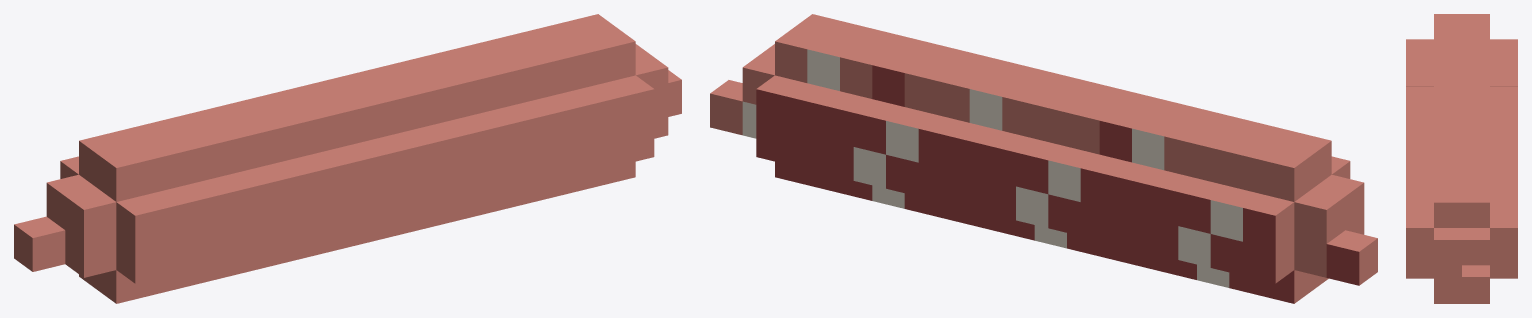
The model's file is Chorizo_Sausage.obj.
The picture shows the model from 3 angles, left to right: view 1: azimuth 30°, elevation 25°; view 2: azimuth 150°, elevation 25°; view 3: azimuth 270°, elevation 25°; orthographic projection. The views are drawn at different scales.
Parts seen in each view (by area): view 1: body_2_3_2, cap_1_2_2, body_2_2_3, knot_0, body_2_1_3, cap_1_1_2, body_12_2_3, body_7_3_2, body_5_3_2, body_3_2_3, body_4_2_3, body_5_2_3 (+75 smaller); view 2: body_2_3_1, cap_1_2_1, body_2_2_0, knot_0, body_2_1_0, body_7_2_0, body_11_3_1, body_13_3_1, body_5_2_0, body_3_3_1, body_7_3_1, body_13_2_0 (+75 smaller); view 3: body_17_2_0, body_17_2_3, cap_18_2_1, cap_18_2_2, knot_19, body_17_3_1, body_17_3_2, body_17_1_0, body_17_1_3, cap_18_1_2, body_17_0_2, body_3_3_1 (+59 smaller).
Part boxes in pixels (x1=…): body_2_3_2: x1=97, y1=146, x2=148, y2=201; cap_1_2_2: x1=65, y1=188, x2=116, y2=243; body_2_2_3: x1=116, y1=194, x2=167, y2=249; knot_0: x1=14, y1=216, x2=65, y2=271; body_2_1_3: x1=116, y1=236, x2=167, y2=283; cap_1_1_2: x1=65, y1=230, x2=116, y2=277; body_12_2_3: x1=441, y1=115, x2=492, y2=170; body_7_3_2: x1=260, y1=107, x2=311, y2=162; body_5_3_2: x1=195, y1=123, x2=246, y2=178; body_3_2_3: x1=149, y1=186, x2=199, y2=241; body_4_2_3: x1=181, y1=178, x2=232, y2=233; body_5_2_3: x1=214, y1=170, x2=264, y2=225; body_2_3_1: x1=1261, y1=146, x2=1312, y2=201; cap_1_2_1: x1=1294, y1=188, x2=1345, y2=243; body_2_2_0: x1=1243, y1=194, x2=1294, y2=249; knot_0: x1=1326, y1=230, x2=1377, y2=285; body_2_1_0: x1=1243, y1=236, x2=1294, y2=283; body_7_2_0: x1=1080, y1=154, x2=1131, y2=209; body_11_3_1: x1=969, y1=75, x2=1020, y2=130; body_13_3_1: x1=904, y1=59, x2=955, y2=114; body_5_2_0: x1=1145, y1=170, x2=1196, y2=225; body_3_3_1: x1=1229, y1=138, x2=1280, y2=193; body_7_3_1: x1=1099, y1=107, x2=1150, y2=162; body_13_2_0: x1=886, y1=107, x2=936, y2=162; body_17_2_0: x1=1490, y1=216, x2=1517, y2=253; body_17_2_3: x1=1406, y1=216, x2=1433, y2=253; cap_18_2_1: x1=1462, y1=228, x2=1489, y2=265; cap_18_2_2: x1=1434, y1=228, x2=1461, y2=265; knot_19: x1=1462, y1=265, x2=1489, y2=302; body_17_3_1: x1=1462, y1=191, x2=1489, y2=227; body_17_3_2: x1=1434, y1=191, x2=1461, y2=227; body_17_1_0: x1=1490, y1=253, x2=1517, y2=278; body_17_1_3: x1=1406, y1=253, x2=1433, y2=278; cap_18_1_2: x1=1434, y1=265, x2=1461, y2=290; body_17_0_2: x1=1434, y1=290, x2=1461, y2=303; body_3_3_1: x1=1462, y1=25, x2=1489, y2=37.
Bounding box in the file's own units: 1.25 × 0.25 × 0.25.
Materials: 3 (3 with a texture image).
